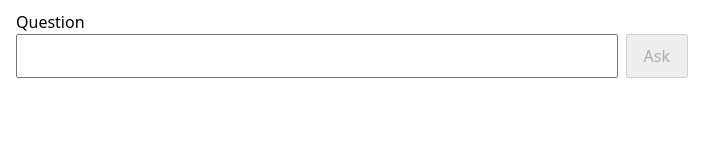
Test case: AskForm › shows the status for a list detail
In the field labelled "Question": (317, 56) 16,34 -> 618,78, type "What is alpha?"
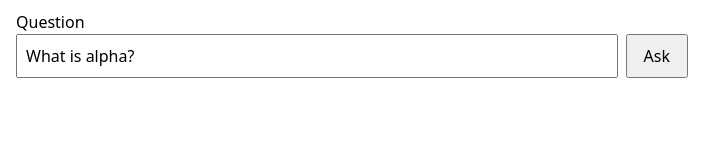
Click the button "Ask": (657, 56) 626,34 -> 688,78
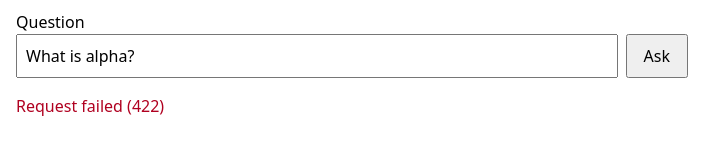
Expected: the button "Ask" is enabled, 626,34 -> 688,78
Expected: the message reads "Request failed (422)", 16,95 -> 164,117
